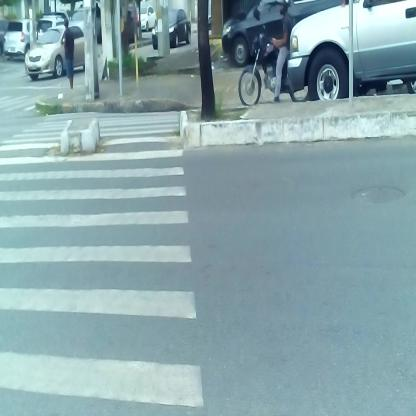crosswalk: (6, 110, 181, 416)
sidewalk: (33, 84, 194, 116)
